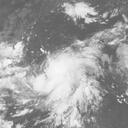cyclone: (32, 51, 103, 106)
